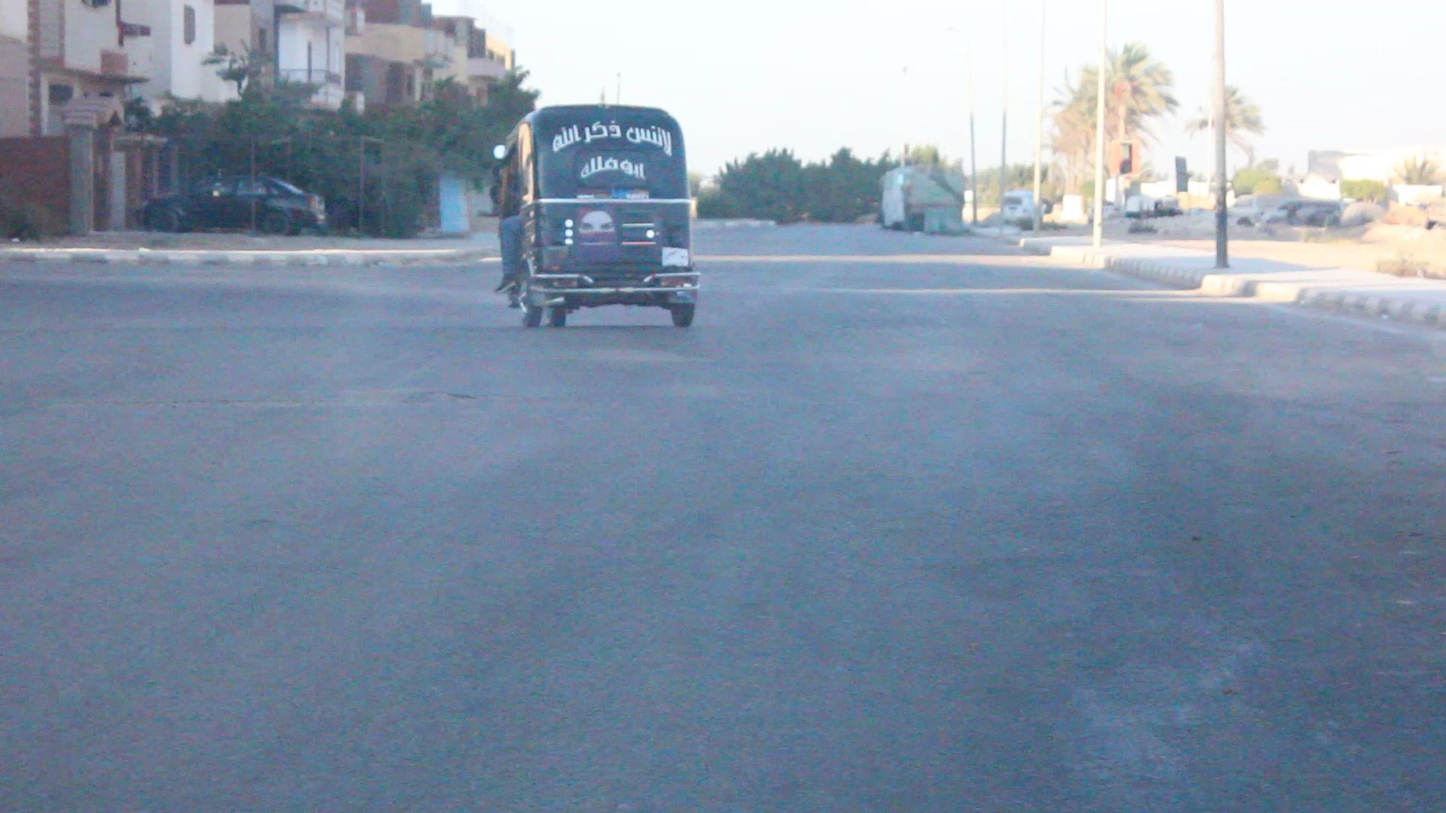Bump: (23, 312, 1446, 363)
